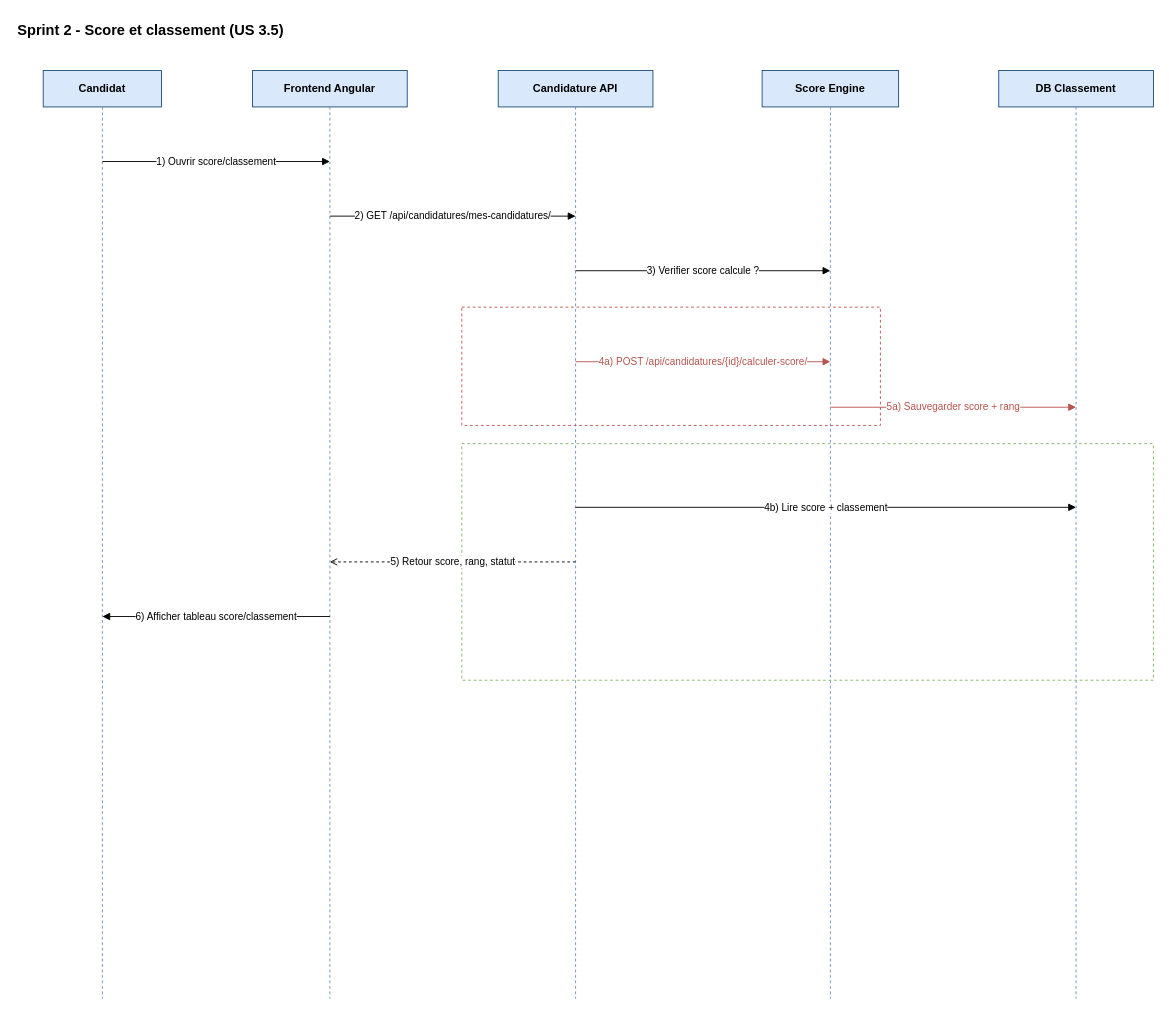
Image size: 1169x1016. Some labels were removed from this diagram. The shapes that lost their labels are listed below. From the top down, each one's centre as x and y in pixels, then its label:
At point (670, 365): "alt [score manquant]".
At point (807, 561): "else [score disponible]".
